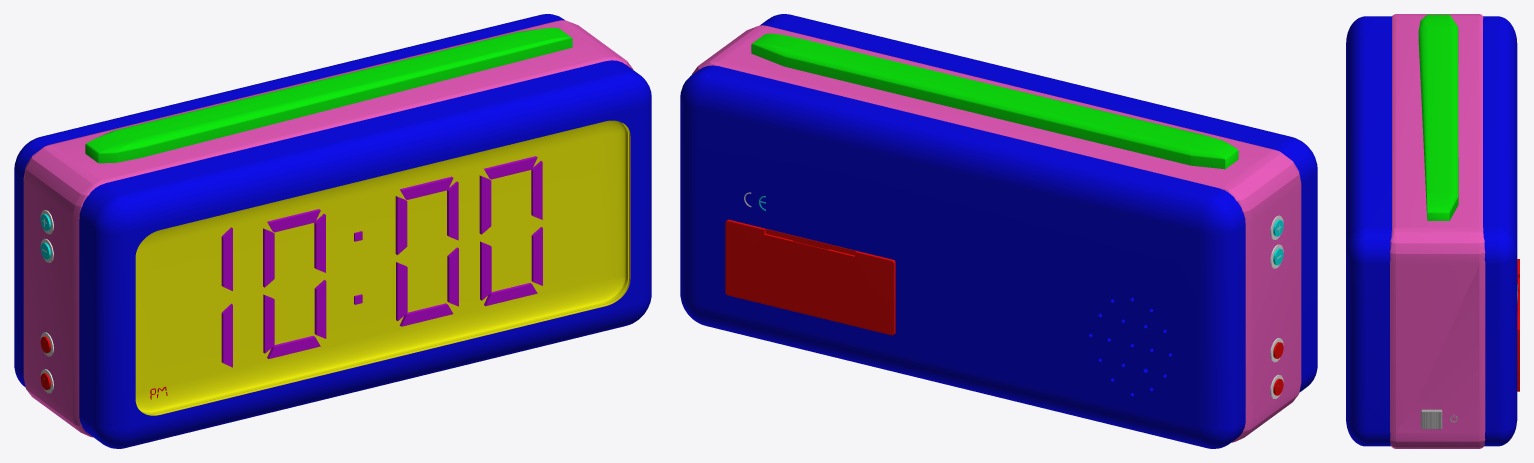
The model's file is Alarm.fbx.
3 views of the same model, side by side, from view 1: azimuth 30°, elevation 25°; view 2: azimuth 150°, elevation 25°; view 3: azimuth 270°, elevation 25° (orthographic). The views are drawn at different scales.
Parts seen in each view (by area): view 1: polySurface36, polySurface35, polySurface69, polySurface54, polySurface87, polySurface74, polySurface82, polySurface90, polySurface91, polySurface75, polySurface89, polySurface71 (+12 smaller); view 2: polySurface35, polySurface69, polySurface54, polySurface37; view 3: polySurface35, polySurface69, polySurface54, polySurface67, polySurface37.
Boxes of the visible parts, bbox=[...] form: polySurface36: bbox=[135, 120, 630, 415]; polySurface35: bbox=[14, 14, 651, 448]; polySurface69: bbox=[23, 20, 633, 437]; polySurface54: bbox=[85, 27, 572, 163]; polySurface87: bbox=[314, 280, 326, 338]; polySurface74: bbox=[479, 175, 491, 234]; polySurface82: bbox=[395, 196, 407, 254]; polySurface90: bbox=[221, 227, 232, 290]; polySurface91: bbox=[221, 303, 232, 367]; polySurface75: bbox=[480, 241, 491, 300]; polySurface89: bbox=[263, 294, 274, 353]; polySurface71: bbox=[484, 156, 537, 179]; polySurface35: bbox=[680, 14, 1317, 448]; polySurface69: bbox=[691, 25, 1301, 442]; polySurface54: bbox=[751, 33, 1238, 169]; polySurface37: bbox=[725, 219, 895, 335]; polySurface35: bbox=[1346, 16, 1517, 446]; polySurface69: bbox=[1390, 14, 1485, 448]; polySurface54: bbox=[1418, 14, 1458, 220]; polySurface67: bbox=[1421, 409, 1442, 429]; polySurface37: bbox=[1517, 259, 1519, 391].
Size of the model in its own units: 472 by 214 by 146.
